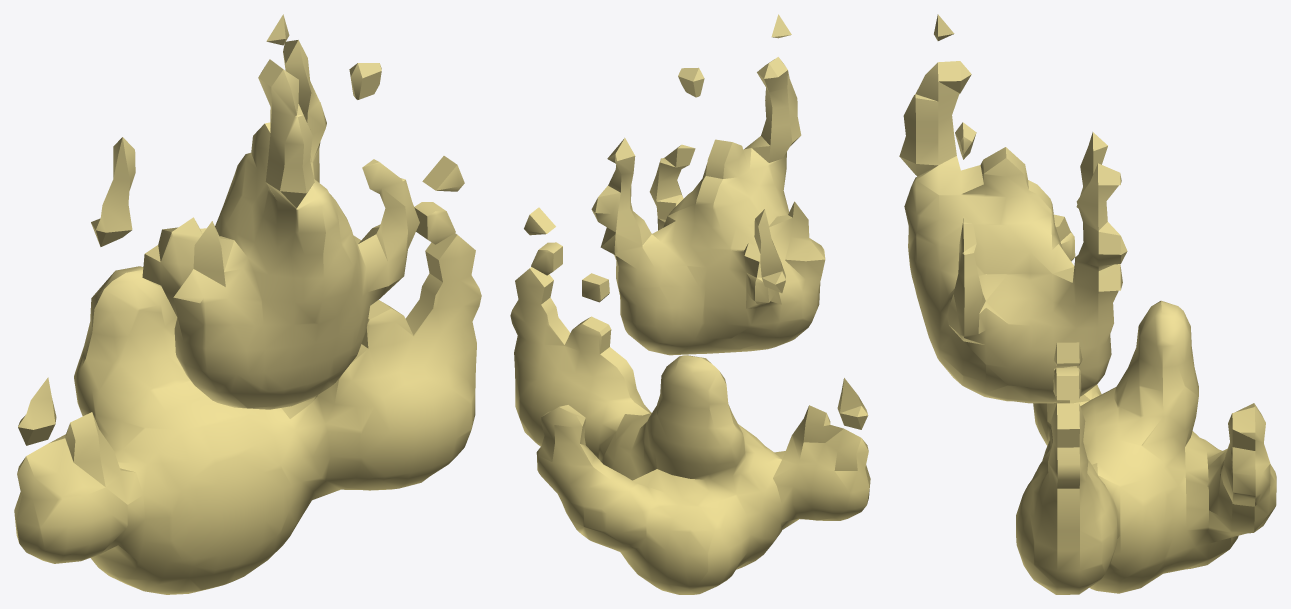
The model's file is PanchesMacuiraFire.fbx.
3 views of the same model, side by side, from view 1: azimuth 30°, elevation 25°; view 2: azimuth 150°, elevation 25°; view 3: azimuth 270°, elevation 25° (orthographic). The views are drawn at different scales.
Visible parts, largest first — view 1: Fire1; view 2: Fire1; view 3: Fire1.
Boxes of the visible parts, left/top/right/bottom form: Fire1: left=14, top=14, right=481, bottom=594; Fire1: left=510, top=14, right=870, bottom=594; Fire1: left=899, top=14, right=1276, bottom=594.
Size of the model in its own units: 135 by 182 by 110.
1 material, 1 textured.
